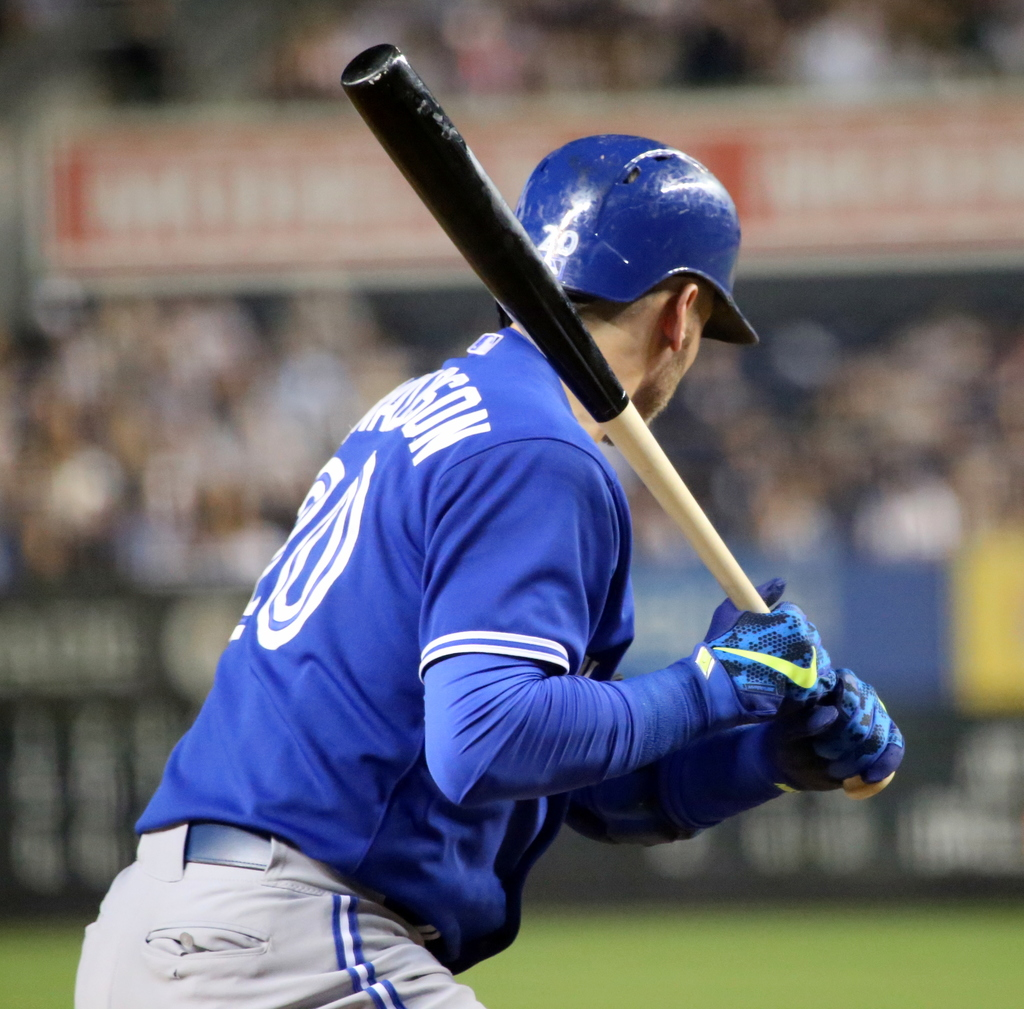Human_hand: (704, 573, 840, 722), (762, 663, 907, 799)
